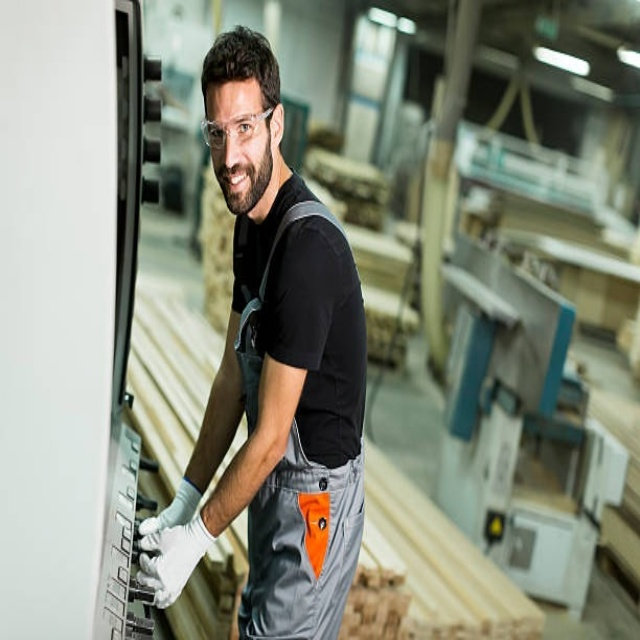Gafas: (202, 106, 274, 151)
Guantes: (135, 507, 219, 613), (139, 475, 203, 537)
Sin_mascara: (220, 162, 258, 207)
